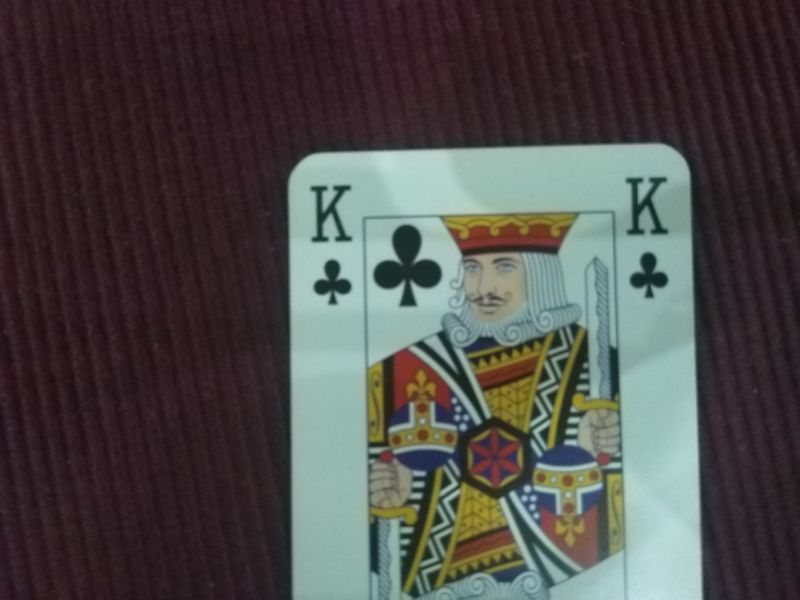Kc: (297, 177, 358, 314), (622, 166, 675, 306)
